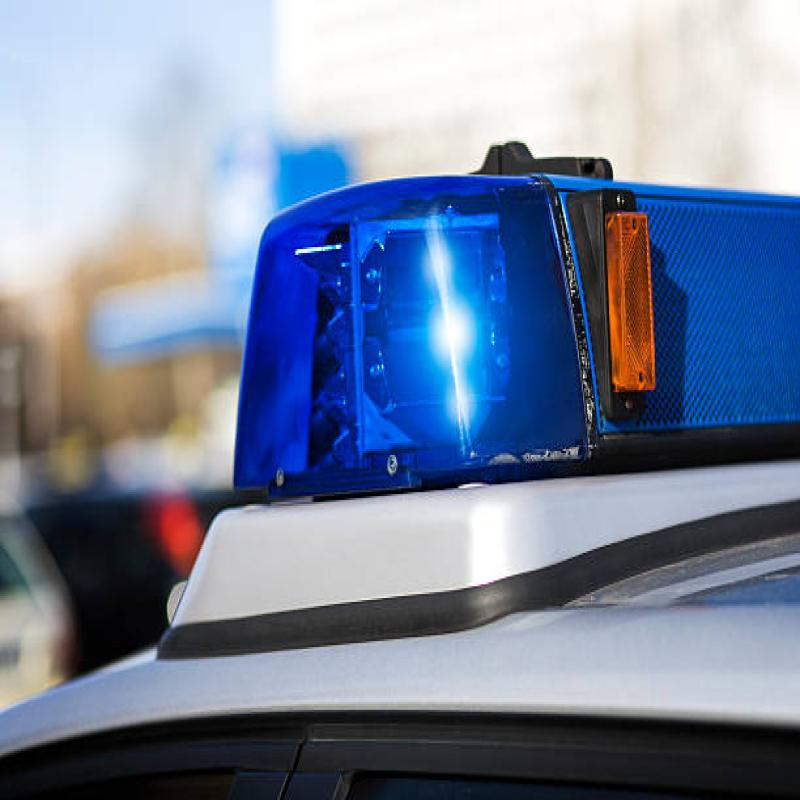AmbulanceSiren: (193, 149, 800, 549)
